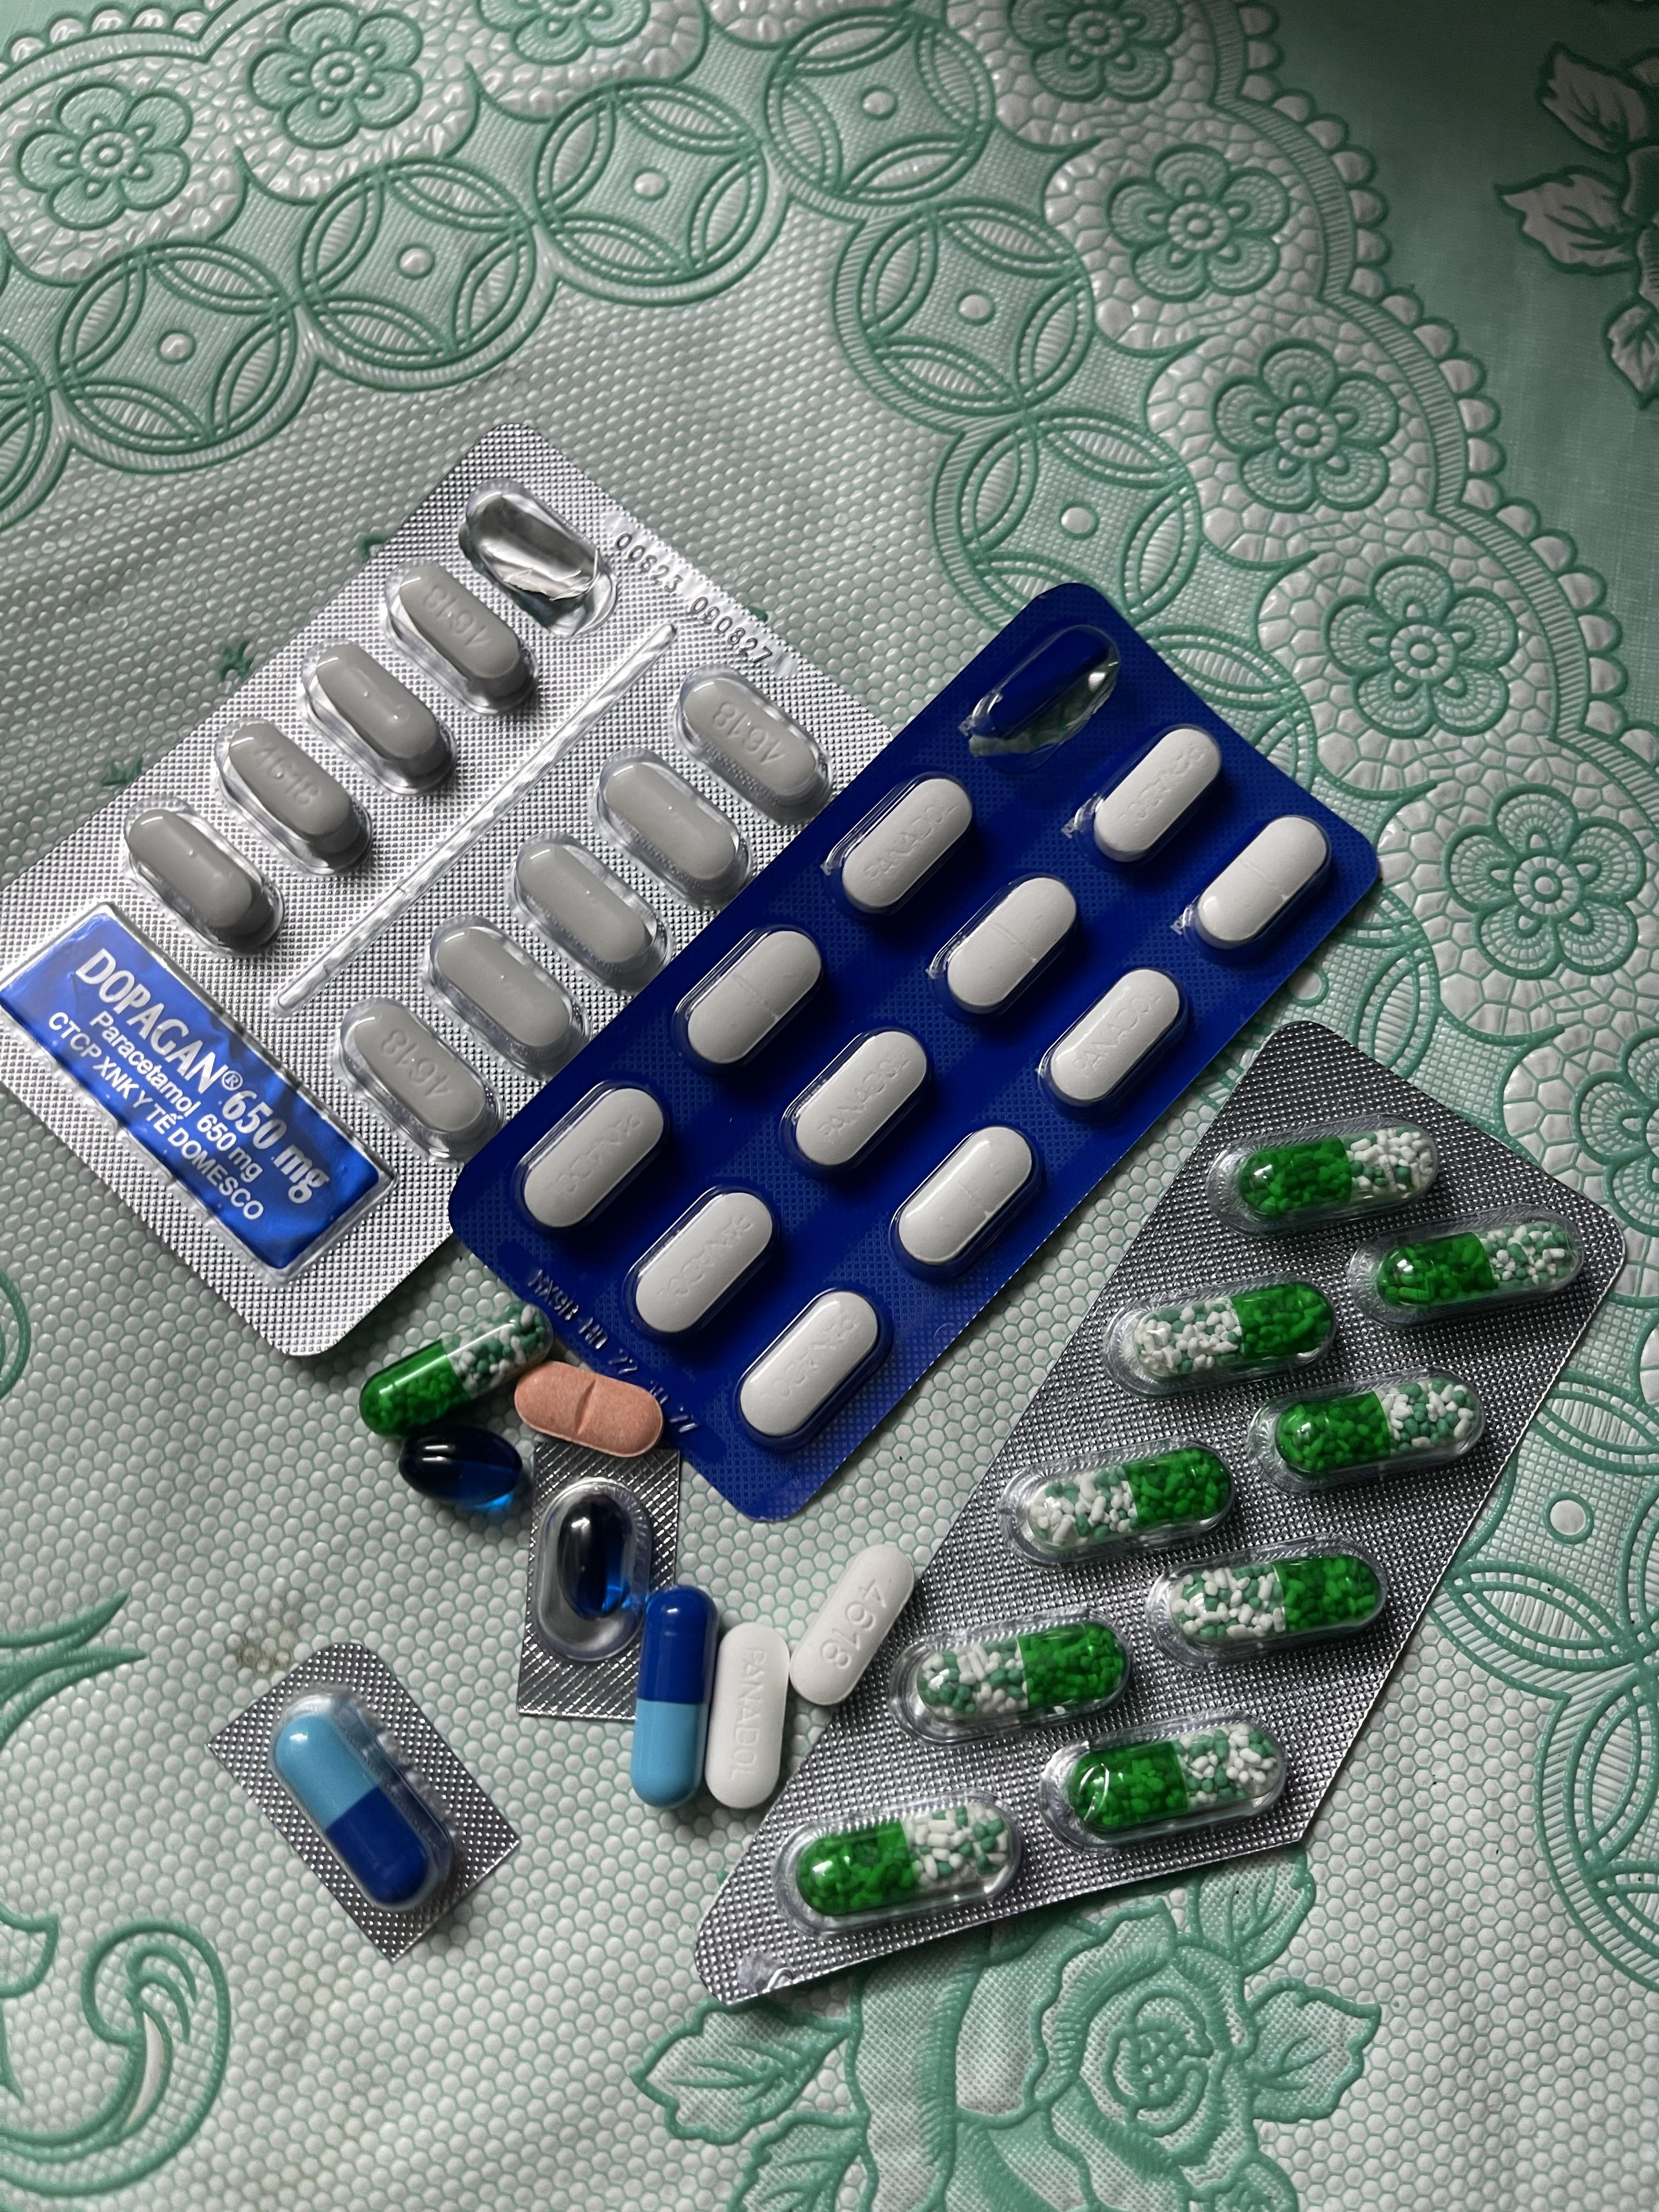Lincomyxin_500mg: (397, 1428, 528, 1508), (566, 1505, 624, 1615)
Loratadine_10mg: (516, 1366, 669, 1465)
Paracetamol_350mg: (892, 1125, 1046, 1282), (735, 1289, 885, 1447), (626, 1186, 779, 1339), (782, 1024, 934, 1177), (514, 1083, 666, 1233), (1046, 967, 1194, 1118), (934, 873, 1082, 1022), (676, 927, 823, 1078), (1187, 817, 1331, 958), (831, 775, 971, 916), (1087, 726, 1225, 866), (704, 1623, 791, 1817)
Paracetamol_500mg: (423, 918, 587, 1082), (333, 998, 493, 1163), (592, 747, 749, 909), (511, 838, 669, 996), (382, 563, 537, 725), (216, 719, 371, 874), (678, 664, 828, 820), (305, 643, 455, 799), (125, 808, 281, 956), (791, 1548, 913, 1707)
Paracetamol_650mg: (1150, 1543, 1378, 1665), (359, 1308, 549, 1433), (800, 1803, 1004, 1914), (1070, 1724, 1276, 1834), (1274, 1379, 1473, 1479), (922, 1620, 1121, 1717), (1023, 1454, 1209, 1547), (1147, 1289, 1324, 1385), (1239, 1130, 1438, 1216), (1377, 1226, 1575, 1310)
pill: (267, 1688, 450, 1911), (631, 1592, 716, 1808)
